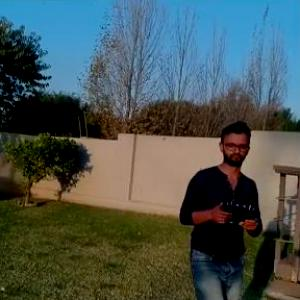follow: (168, 117, 262, 299)
